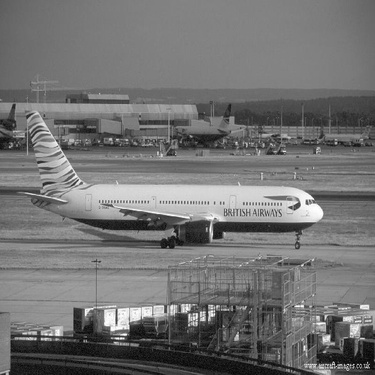airplane: (14, 98, 331, 257)
